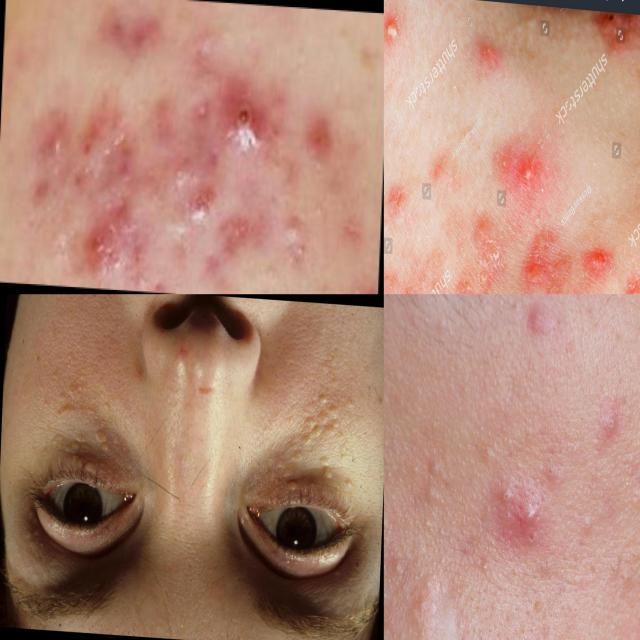8: (499, 477, 556, 561), (72, 210, 130, 270), (410, 564, 447, 625), (516, 294, 556, 346), (577, 240, 615, 291), (31, 119, 68, 171), (591, 5, 631, 46), (192, 183, 220, 226)
9: (516, 152, 534, 189), (384, 12, 406, 40), (624, 268, 640, 294)
blackheads: (101, 0, 173, 73), (48, 349, 90, 414), (7, 504, 44, 560), (90, 426, 128, 458), (274, 433, 306, 469), (305, 391, 341, 423), (307, 421, 348, 446), (49, 431, 83, 456), (315, 456, 338, 482), (74, 457, 100, 480), (479, 35, 496, 70), (283, 475, 305, 495), (343, 476, 354, 490)
pustules: (219, 68, 277, 151)
